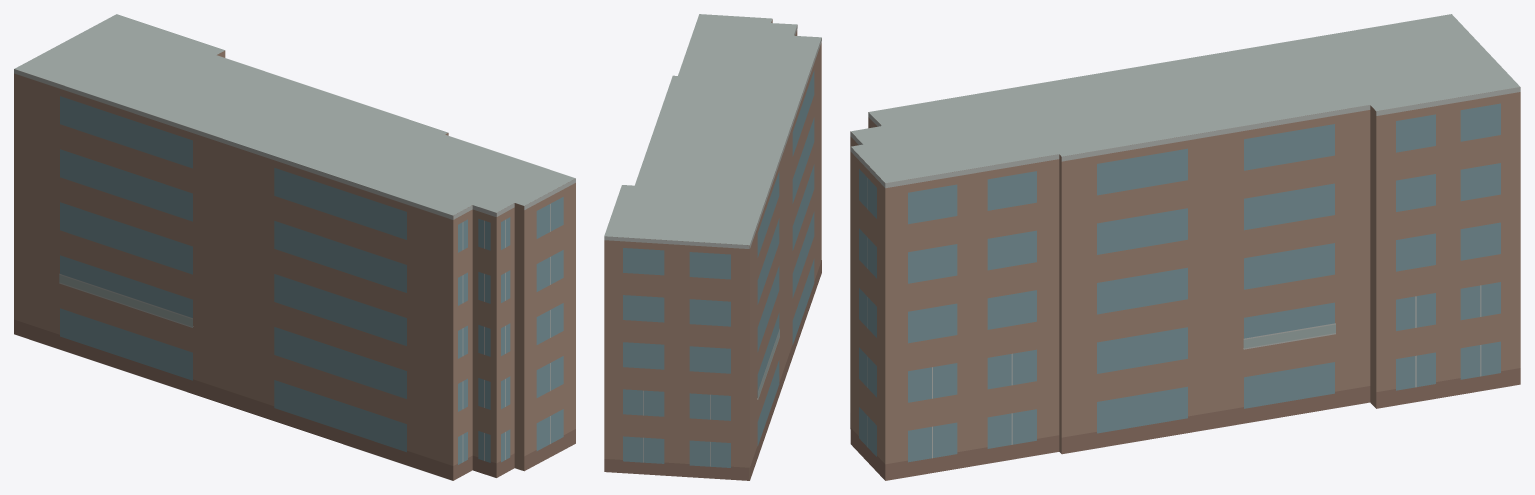
File: survey-upis-32750201.glb
3 views of the same model, side by side, from view 1: azimuth 30°, elevation 25°; view 2: azimuth 150°, elevation 25°; view 3: azimuth 270°, elevation 25° (orthographic). The views are drawn at different scales.
Parts seen in each view (by area): view 1: survey-upis-32750201.tmp; view 2: survey-upis-32750201.tmp; view 3: survey-upis-32750201.tmp.
Boxes of the visible parts, bbox=[...] form: survey-upis-32750201.tmp: bbox=[14, 14, 575, 480]; survey-upis-32750201.tmp: bbox=[604, 14, 821, 480]; survey-upis-32750201.tmp: bbox=[850, 14, 1520, 480].
Bounding box in the file's own units: 17.95 × 14.7 × 30.01.
